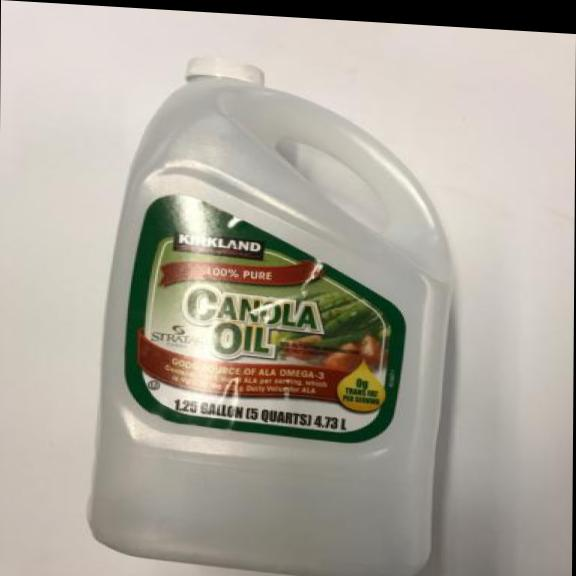Plastik: (84, 48, 457, 576)
